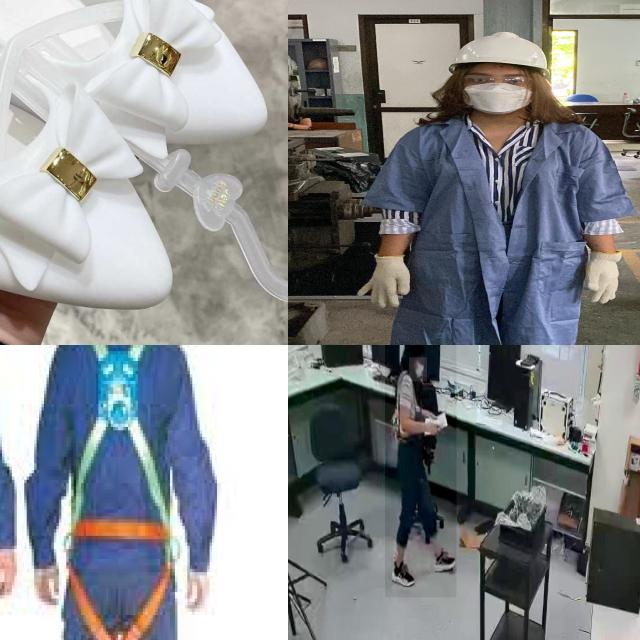Harness: (65, 345, 175, 640)
Sandals: (0, 0, 283, 325)
face_mask: (462, 71, 536, 116), (409, 358, 427, 382)
glasses: (460, 73, 536, 92)
hand_glove: (348, 254, 416, 311), (583, 251, 626, 305)
hand_noglove: (422, 418, 440, 436)
head_helmet: (445, 31, 549, 72)
person: (358, 28, 636, 345), (385, 345, 457, 598)
shoes: (389, 556, 416, 593), (428, 540, 458, 572)
